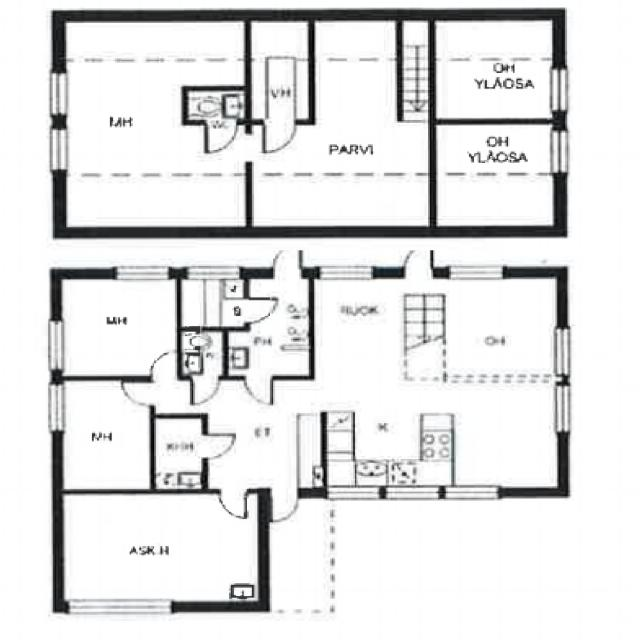door: (205, 120, 238, 155), (264, 120, 296, 153), (271, 243, 300, 278), (403, 242, 432, 277), (270, 489, 298, 523), (244, 298, 278, 324), (218, 489, 246, 520), (244, 376, 272, 406), (121, 384, 155, 408), (201, 436, 235, 460), (192, 376, 219, 406), (155, 358, 176, 382)
